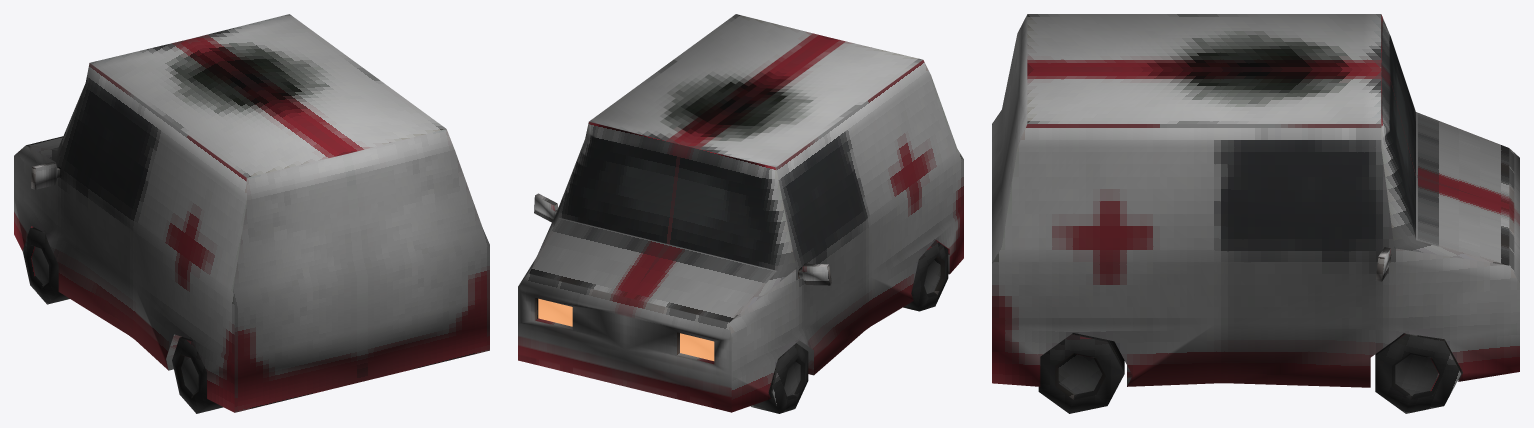
The model's file is Forest Night.glb.
3 renders of one model, left to right at view 1: azimuth 30°, elevation 25°; view 2: azimuth 150°, elevation 25°; view 3: azimuth 270°, elevation 25°, orthographic. The views are drawn at different scales.
Visible parts, largest first — view 1: Ambulance; view 2: Ambulance; view 3: Ambulance.
Part boxes in pixels (x1,y1,x2,y2): Ambulance: (14, 14, 489, 413); Ambulance: (518, 14, 963, 413); Ambulance: (992, 14, 1519, 413).
Size of the model in its own units: 7.62 by 5.57 by 9.77.
Materials: 2 (1 with a texture image).
